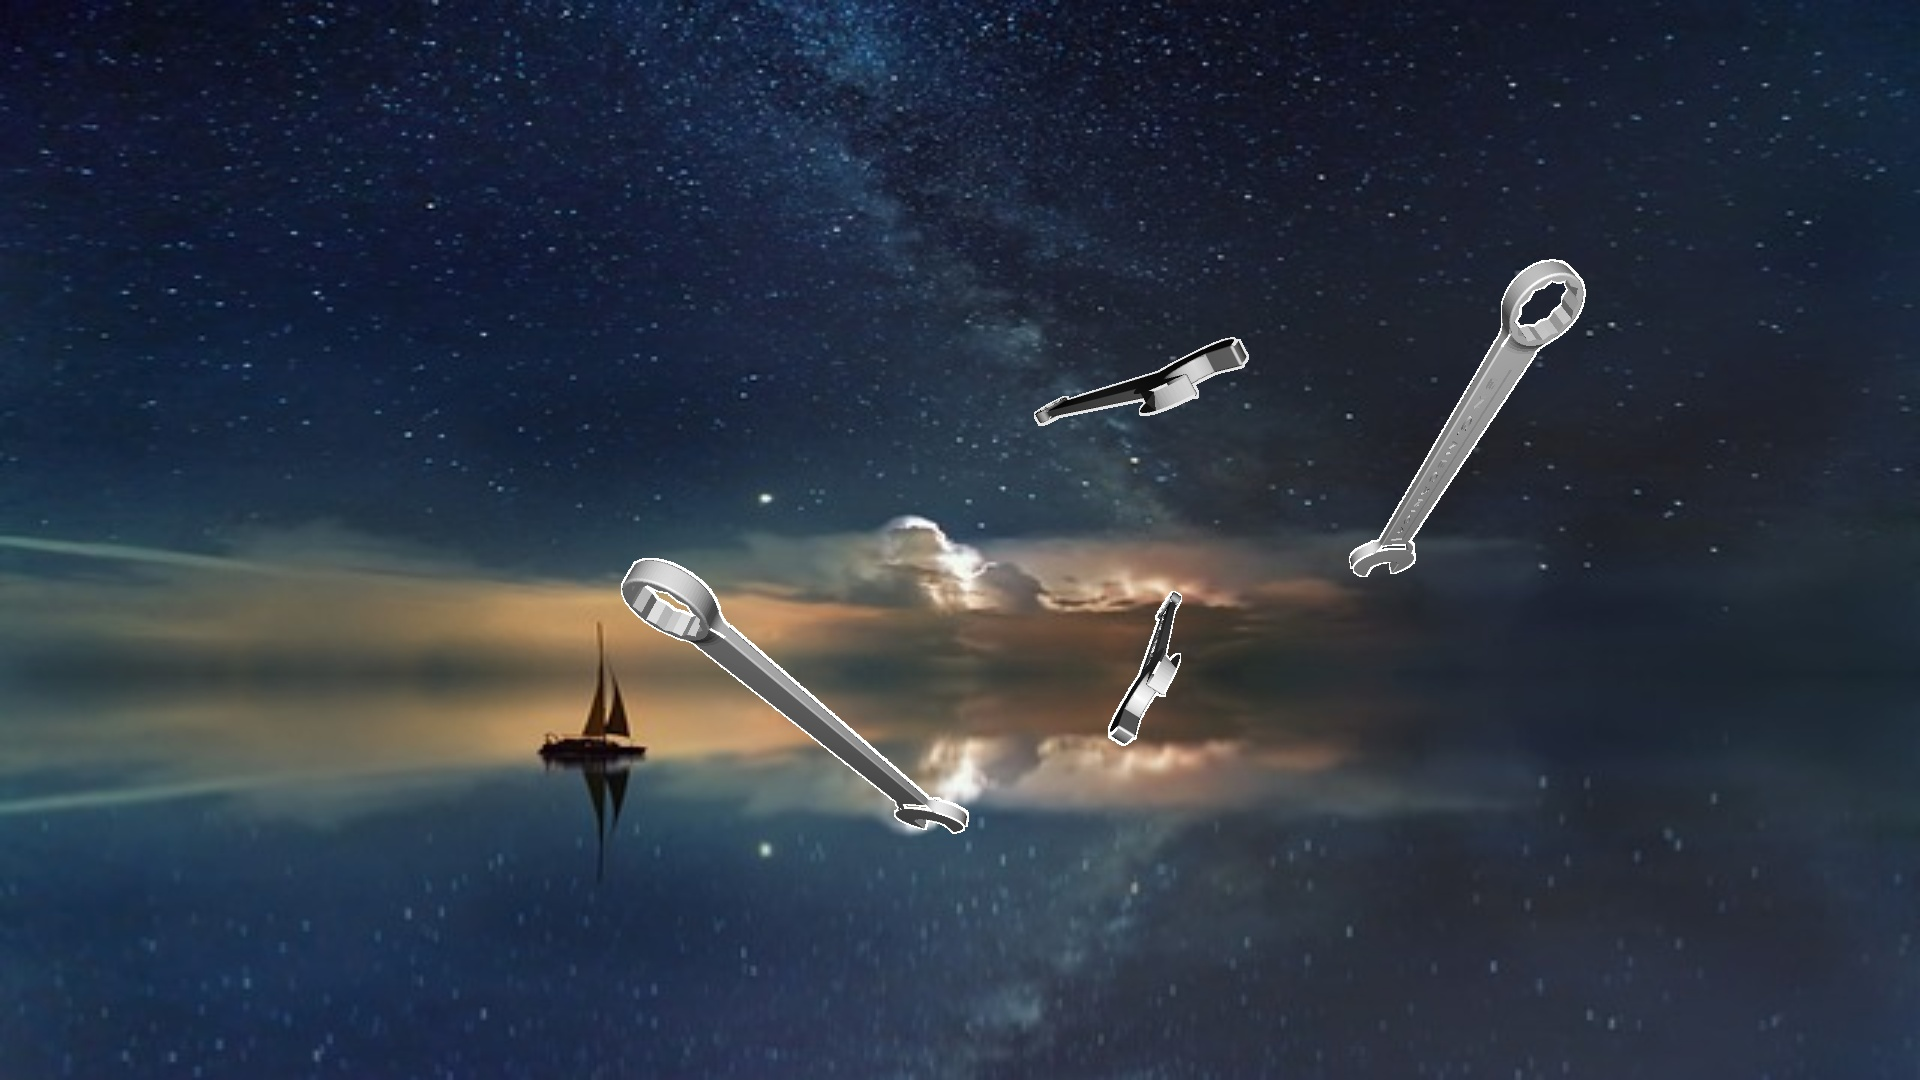Mixed Key: (621, 558, 968, 833), (1349, 258, 1585, 576), (1034, 338, 1247, 425), (1108, 591, 1182, 745)
